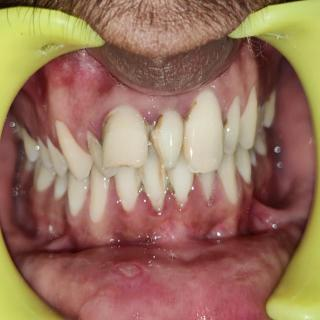Gum Swelling: (45, 80, 235, 155), (64, 170, 234, 240)
calculus: (131, 111, 165, 156), (94, 101, 117, 151), (156, 166, 184, 204), (174, 98, 198, 136), (128, 167, 152, 200), (85, 130, 106, 165), (218, 108, 235, 139)
maligned: (100, 99, 146, 171), (151, 108, 183, 172), (87, 129, 115, 177)
